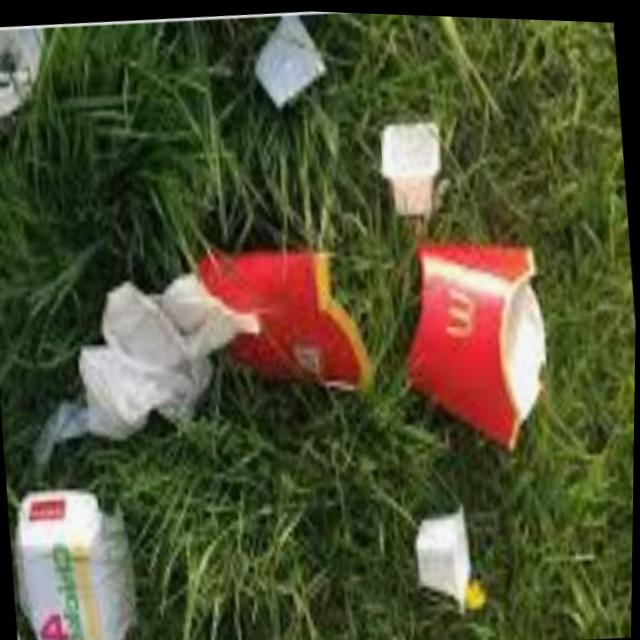leaf: (373, 77, 453, 224), (396, 498, 487, 610)
metal: (5, 252, 238, 486)
trash: (397, 211, 563, 444), (194, 226, 377, 433), (6, 475, 134, 640), (220, 6, 336, 131)
